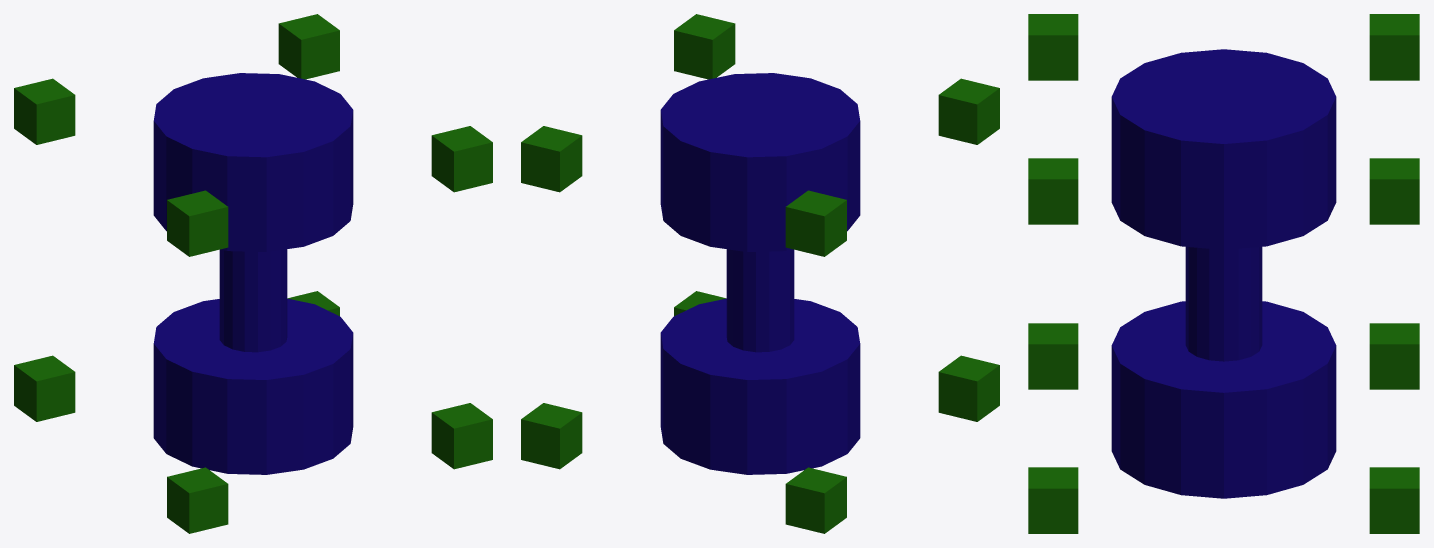
The model's file is 19_Magnetron.fbx.
The picture shows the model from 3 angles, left to right: view 1: azimuth 30°, elevation 25°; view 2: azimuth 150°, elevation 25°; view 3: azimuth 270°, elevation 25°; orthographic projection. The views are drawn at different scales.
Parts seen in each view (by area): view 1: Magnetron; view 2: Magnetron; view 3: Magnetron.
Part boxes in pixels (x1=…): Magnetron: x1=14, y1=14, x2=492, y2=533; Magnetron: x1=521, y1=14, x2=999, y2=533; Magnetron: x1=1028, y1=14, x2=1419, y2=533.
Bounding box in the file's own units: 100 × 100 × 100.
